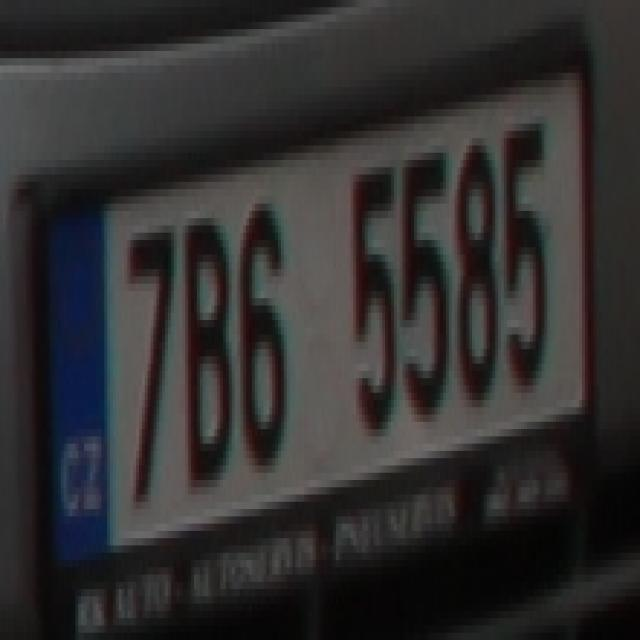5: (394, 131, 452, 422), (347, 146, 394, 429), (501, 109, 547, 378)
6: (232, 182, 286, 465)
7: (122, 226, 174, 509)
8: (455, 131, 495, 400)
B: (173, 196, 234, 502)
